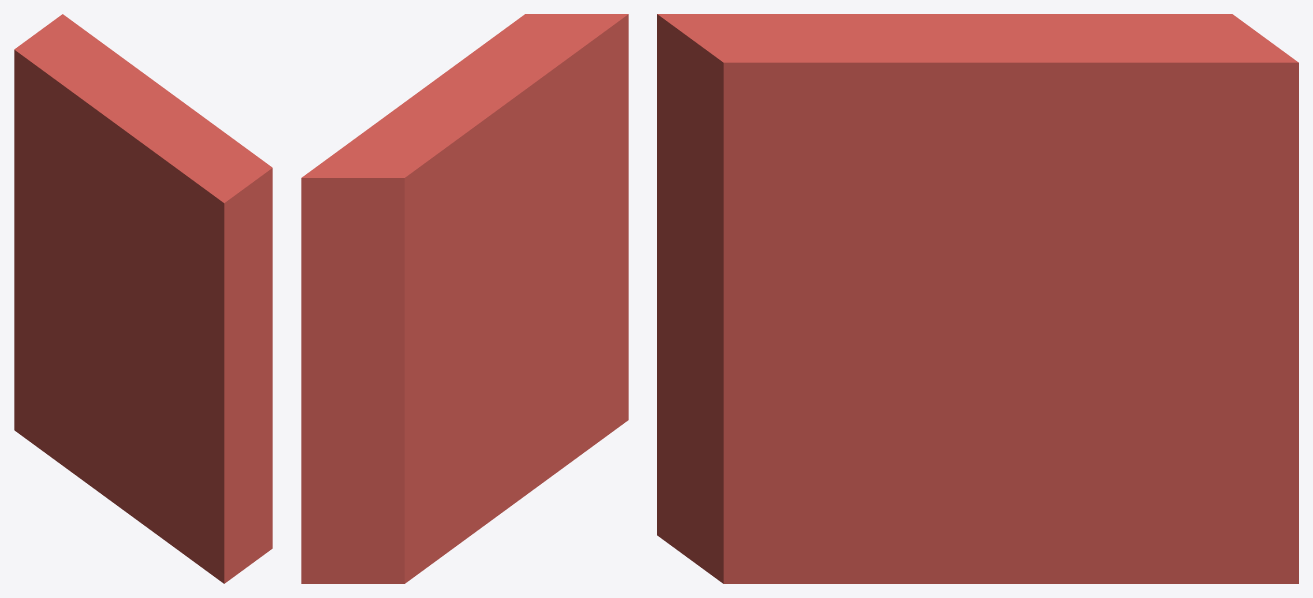
The model's file is corner_wall_0.fbx.
3 views of the same model, side by side, from view 1: azimuth 30°, elevation 25°; view 2: azimuth 150°, elevation 25°; view 3: azimuth 270°, elevation 25° (orthographic). The views are drawn at different scales.
Parts seen in each view (by area): view 1: corner_wall_0; view 2: corner_wall_0; view 3: corner_wall_0.
Part boxes in pixels (x1,y1,x2,y2): corner_wall_0: (14, 14, 272, 583); corner_wall_0: (301, 14, 628, 583); corner_wall_0: (657, 14, 1298, 583).
Bounding box in the file's own units: 20 × 100 × 112.
